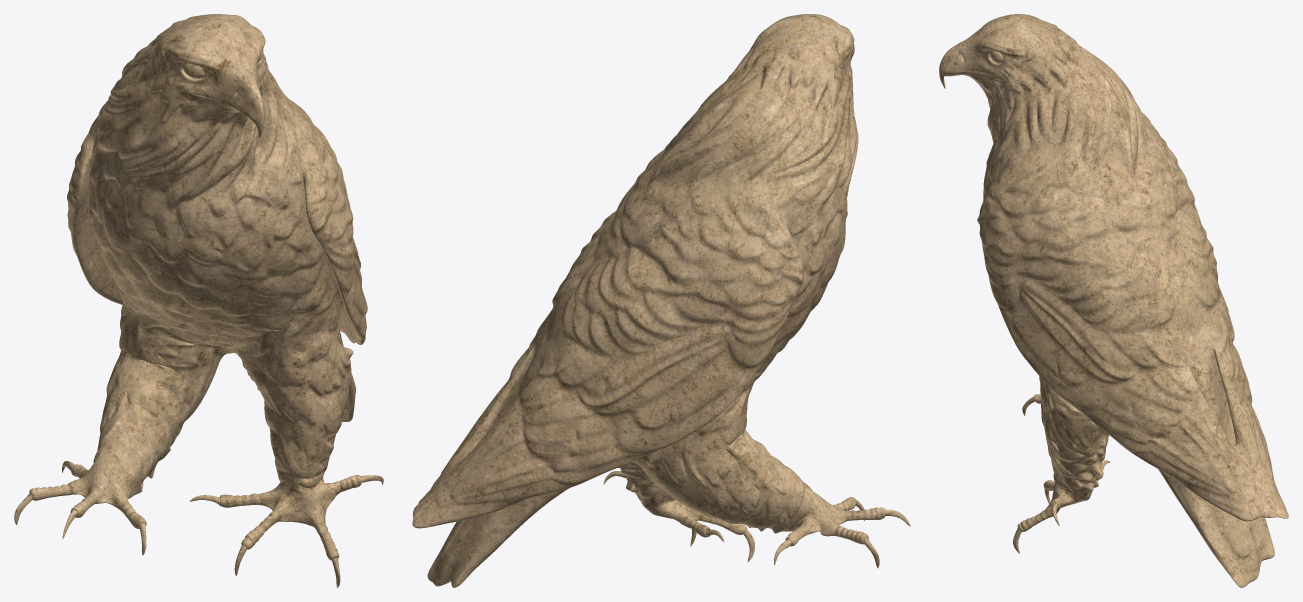
The model's file is eagle_near.glb.
3 renders of one model, left to right at view 1: azimuth 30°, elevation 25°; view 2: azimuth 150°, elevation 25°; view 3: azimuth 270°, elevation 25°, orthographic. The views are drawn at different scales.
Parts seen in each view (by area): view 1: EAGL; view 2: EAGL; view 3: EAGL.
Boxes of the visible parts, left/top/right/bottom form: EAGL: left=14, top=14, right=383, bottom=587; EAGL: left=412, top=14, right=910, bottom=587; EAGL: left=939, top=14, right=1288, bottom=587.
Bounding box in the file's own units: 0.7497 × 1.03 × 0.6744.
Materials: 1 (1 with a texture image).
